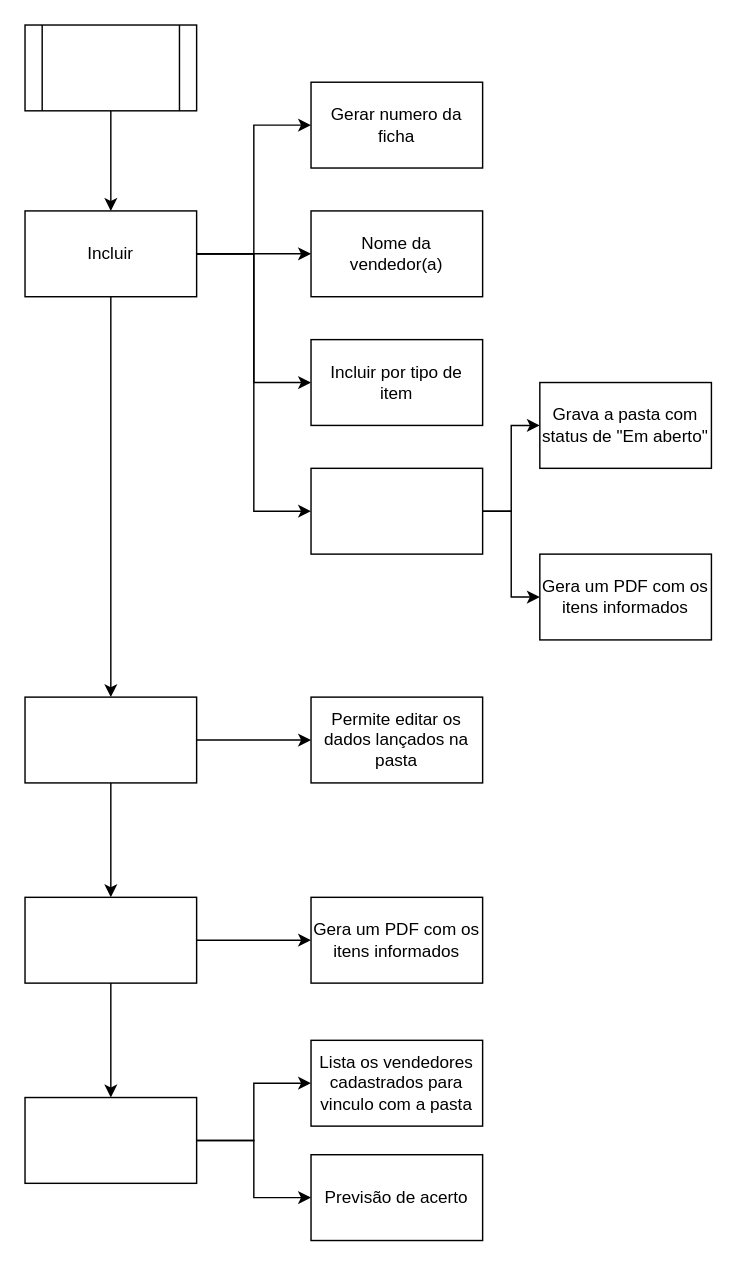
This 736x1266 diagram has some shape labels left out. Each missing label, with the centre of its shape:
Alterar: point (110, 739)
Cadastro de pasta: point (110, 67)
Gravar e gerar PDF: point (396, 510)
Imprimir: point (110, 939)
Informar entrega: point (110, 1139)
